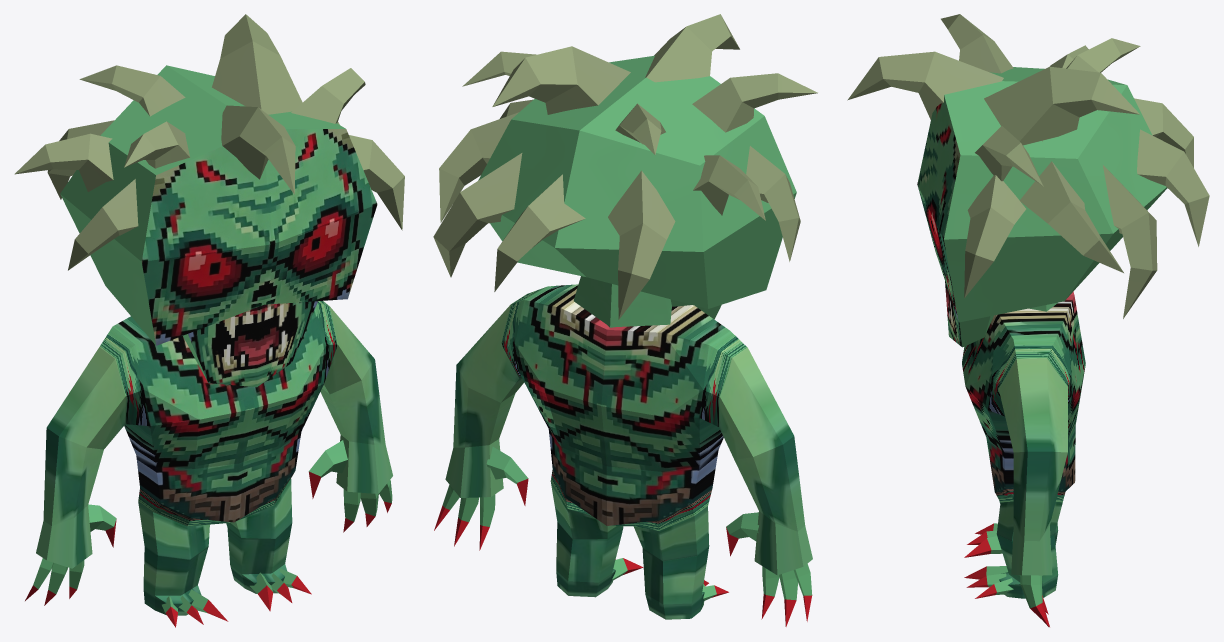
Rendered from TestZombie1.fbx.
3 renders of one model, left to right at view 1: azimuth 30°, elevation 25°; view 2: azimuth 150°, elevation 25°; view 3: azimuth 270°, elevation 25°, orthographic. The views are drawn at different scales.
Visible parts, largest first — view 1: Vert.017, Vert.018, Vert.021, Vert.020; view 2: Vert.017, Vert.018, Vert.021, Vert.020; view 3: Vert.021, Vert.018, Vert.017, Vert.020.
Boxes of the visible parts, left/top/right/bottom form: Vert.017: left=36, top=301, right=392, bottom=615; Vert.018: left=60, top=65, right=377, bottom=387; Vert.021: left=14, top=14, right=404, bottom=270; Vert.020: left=25, top=440, right=392, bottom=627; Vert.017: left=445, top=276, right=812, bottom=619; Vert.018: left=478, top=55, right=796, bottom=319; Vert.021: left=433, top=14, right=817, bottom=319; Vert.020: left=434, top=447, right=812, bottom=626; Vert.021: left=847, top=14, right=1209, bottom=318; Vert.018: left=917, top=67, right=1167, bottom=347; Vert.017: left=962, top=291, right=1085, bottom=598; Vert.020: left=964, top=523, right=1049, bottom=627.
Bounding box in the file's own units: 0.8012 × 1.13 × 0.7041.
